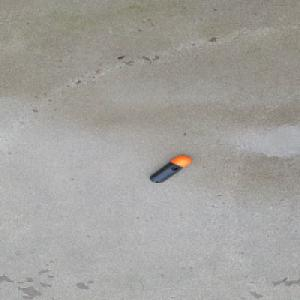PlasticPart: (149, 154, 192, 182)
